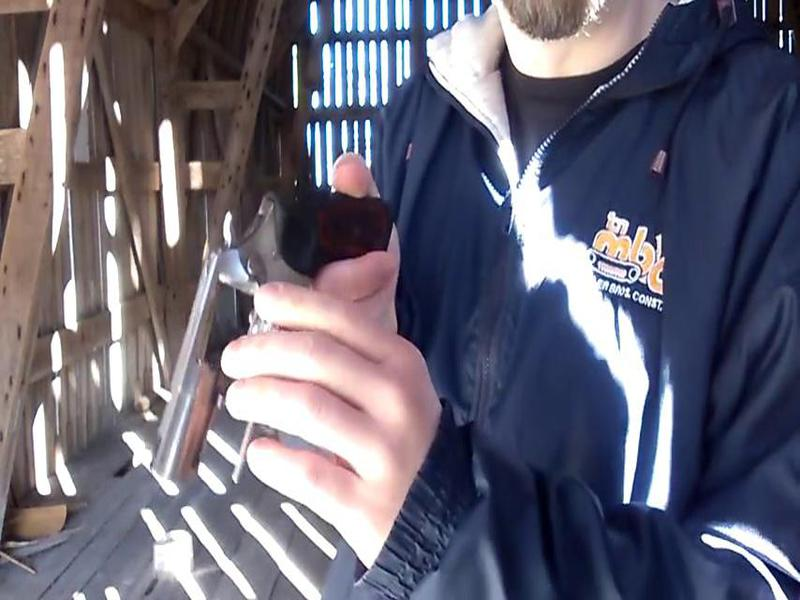Revolver: (121, 165, 414, 492)
